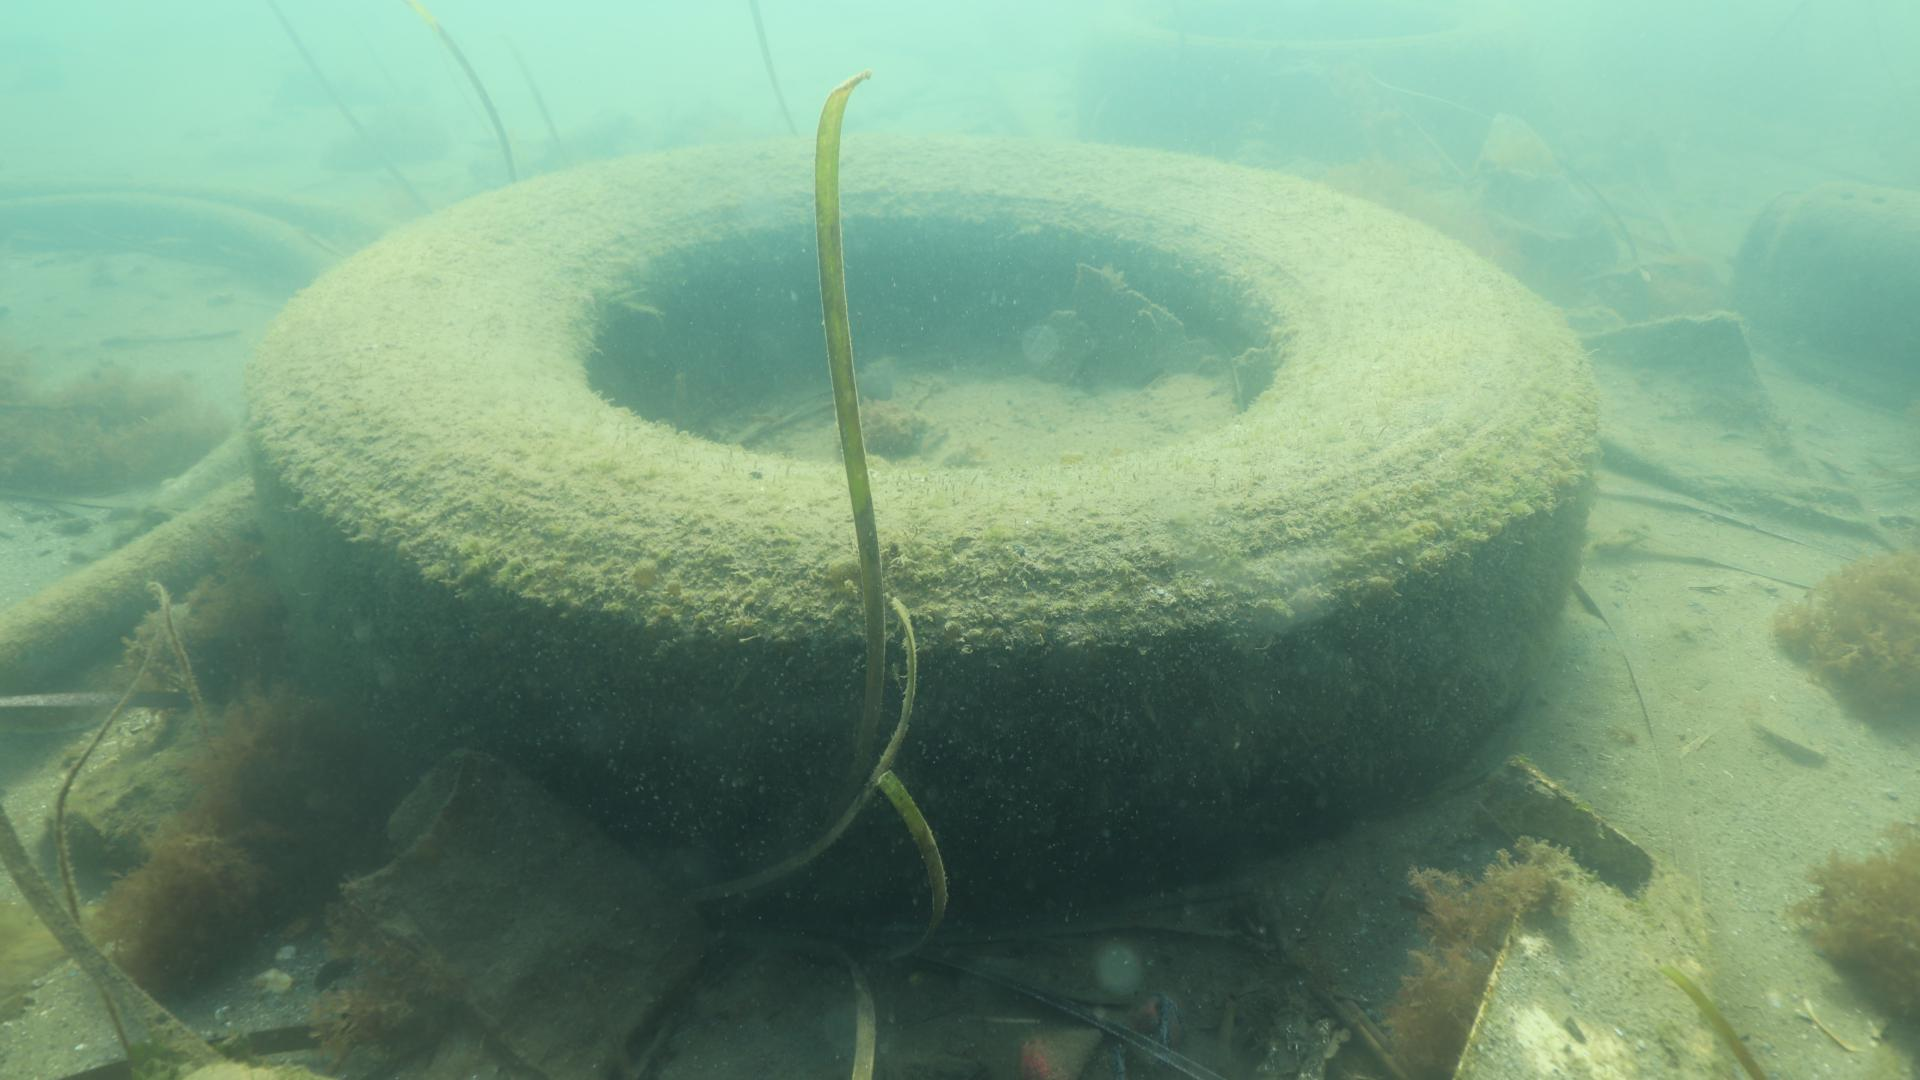tire: (245, 128, 1604, 905)
